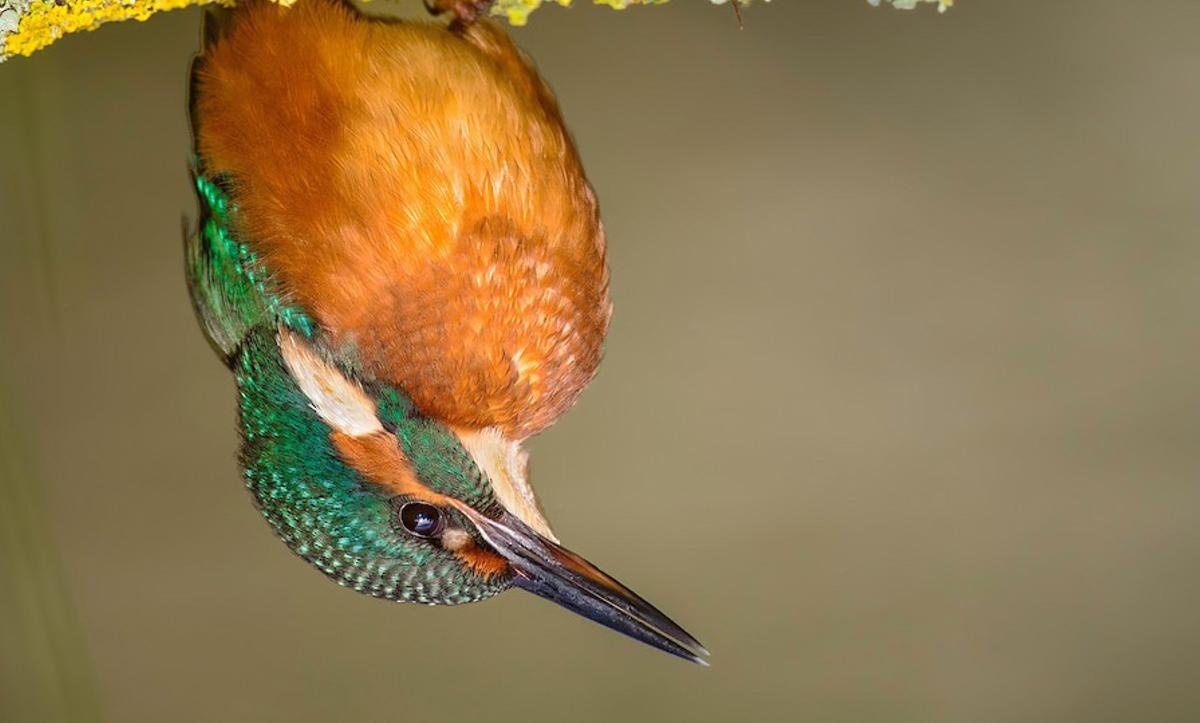kingfisher: (155, 1, 733, 675)
